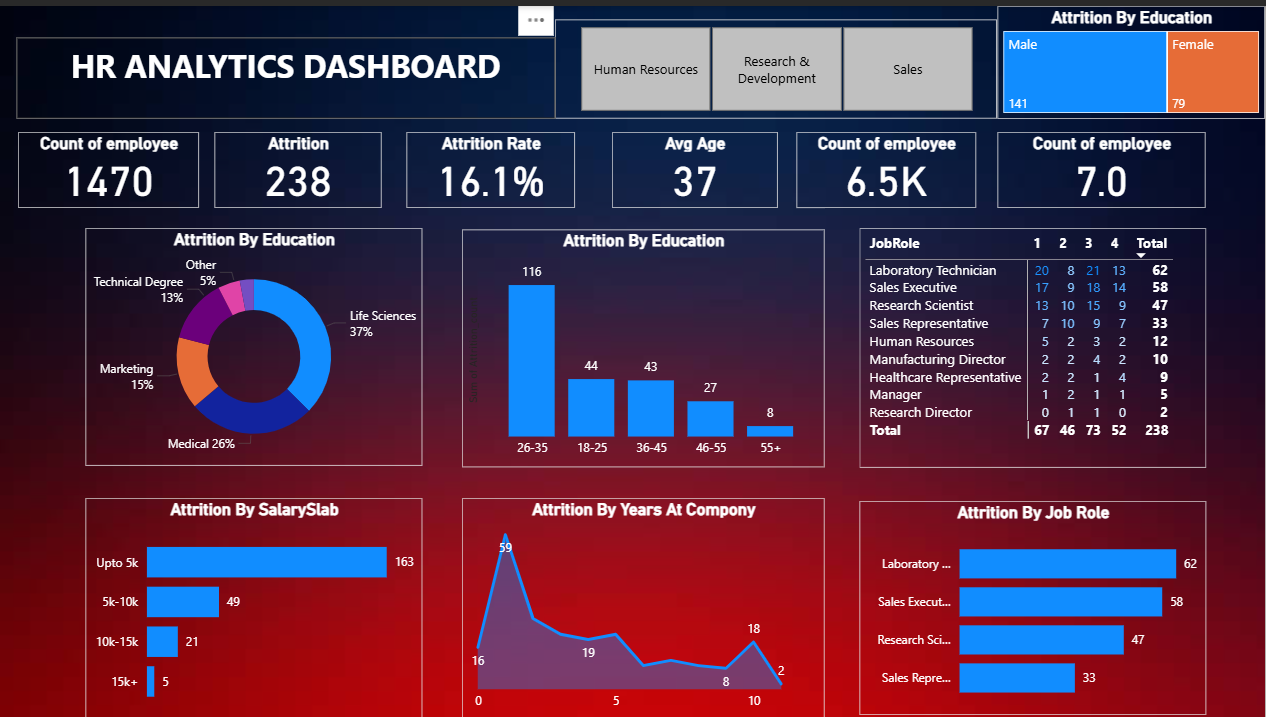

What the dashboard file says about the page in this screenshot:
{"tool":"powerbi","page":{"name":"Page 1","canvas":[1280,720],"ordinal":0},"visuals":[{"type":"card","title":"Count of employee","fields":{"Values":["Count(HR_Analytics.EmpID)"]},"box":[20.7,127.2,182.9,76.3],"z":0},{"type":"card","title":"Attrition Rate","fields":{"Values":["HR_Analytics.attrition_rate"]},"box":[413.6,127.2,170.2,76.3],"z":1000},{"type":"card","title":"Avg Age","fields":{"Values":["Avg(HR_Analytics.Age)"]},"box":[620.3,127.2,167,76.3],"z":2000},{"type":"card","title":"Attrition","fields":{"Values":["Sum(HR_Analytics.Attrition_count)"]},"box":[219.5,127.2,168.6,76.3],"z":3000},{"type":"card","title":"Count of employee","fields":{"Values":["Avg(HR_Analytics.MonthlyIncome)"]},"box":[806.4,127.2,181.3,76.3],"z":4000},{"type":"card","title":"Count of employee","fields":{"Values":["Avg(HR_Analytics.YearsAtCompany)"]},"box":[1010,127.2,210,76.3],"z":5000},{"type":"donutChart","title":"Attrition By Education","fields":{"Category":["HR_Analytics.EducationField"],"Y":["Sum(HR_Analytics.Attrition_count)"]},"box":[90,224,340,240],"z":6000},{"type":"columnChart","title":"Attrition By Education","fields":{"Category":["HR_Analytics.AgeGroup"],"Y":["Sum(HR_Analytics.Attrition_count)"]},"box":[470,226,366,240],"z":7000},{"type":"pivotTable","fields":{"Rows":["HR_Analytics.JobRole"],"Columns":["HR_Analytics.JobSatisfaction"],"Values":["Sum(HR_Analytics.Attrition_count)"]},"box":[870,224,350,242],"z":8000},{"type":"barChart","title":"Attrition By SalarySlab","fields":{"Category":["HR_Analytics.SalarySlab"],"Y":["Sum(HR_Analytics.Attrition_count)"]},"box":[90,496,340,224],"z":9000},{"type":"barChart","title":"Attrition By Job Role","fields":{"Y":["Sum(HR_Analytics.Attrition_count)"],"Category":["HR_Analytics.JobRole"]},"box":[870,500,350,216],"z":10000},{"type":"areaChart","title":"Attrition By Years At Compony","fields":{"Category":["HR_Analytics.YearsAtCompany"],"Y":["Sum(HR_Analytics.Attrition_count)"]},"box":[470,496,366,224],"z":11000},{"type":"treemap","title":"Attrition By Education","fields":{"Group":["HR_Analytics.Gender"],"Values":["Sum(HR_Analytics.Attrition_count)"]},"box":[1010,0,270,114],"z":12000},{"type":"slicer","fields":{"Values":["HR_Analytics.Department"]},"box":[564,14,446,100],"z":13000},{"type":"textbox","box":[20,32,544,82],"z":14000}]}

Visuals, with their boxes in screenshot pixels (x1, y1, x2, y2), scaled from the page's 1280x720 canvas onto the 1266x717 screenshot:
"Count of employee" card: left=20, top=127, right=201, bottom=203
"Attrition Rate" card: left=409, top=127, right=577, bottom=203
"Avg Age" card: left=614, top=127, right=779, bottom=203
"Attrition" card: left=217, top=127, right=384, bottom=203
"Count of employee" card: left=798, top=127, right=977, bottom=203
"Count of employee" card: left=999, top=127, right=1207, bottom=203
"Attrition By Education" donutChart: left=89, top=223, right=425, bottom=462
"Attrition By Education" columnChart: left=465, top=225, right=827, bottom=464
pivotTable - HR_Analytics.JobRole x HR_Analytics.JobSatisfaction: left=860, top=223, right=1207, bottom=464
"Attrition By SalarySlab" barChart: left=89, top=494, right=425, bottom=716
"Attrition By Job Role" barChart: left=860, top=498, right=1207, bottom=713
"Attrition By Years At Compony" areaChart: left=465, top=494, right=827, bottom=716
"Attrition By Education" treemap: left=999, top=0, right=1265, bottom=114
slicer - HR_Analytics.Department: left=558, top=14, right=999, bottom=114
textbox: left=20, top=32, right=558, bottom=114
